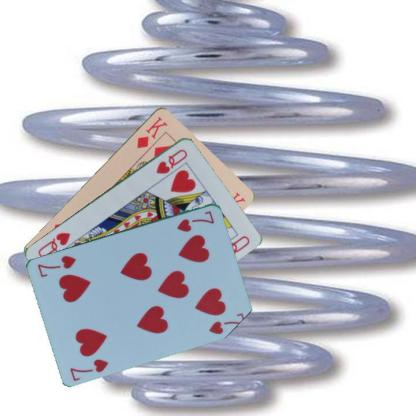7h: (67, 356, 110, 382), (175, 207, 216, 233)
Kd: (134, 113, 169, 150)
Qh: (153, 146, 189, 175)
